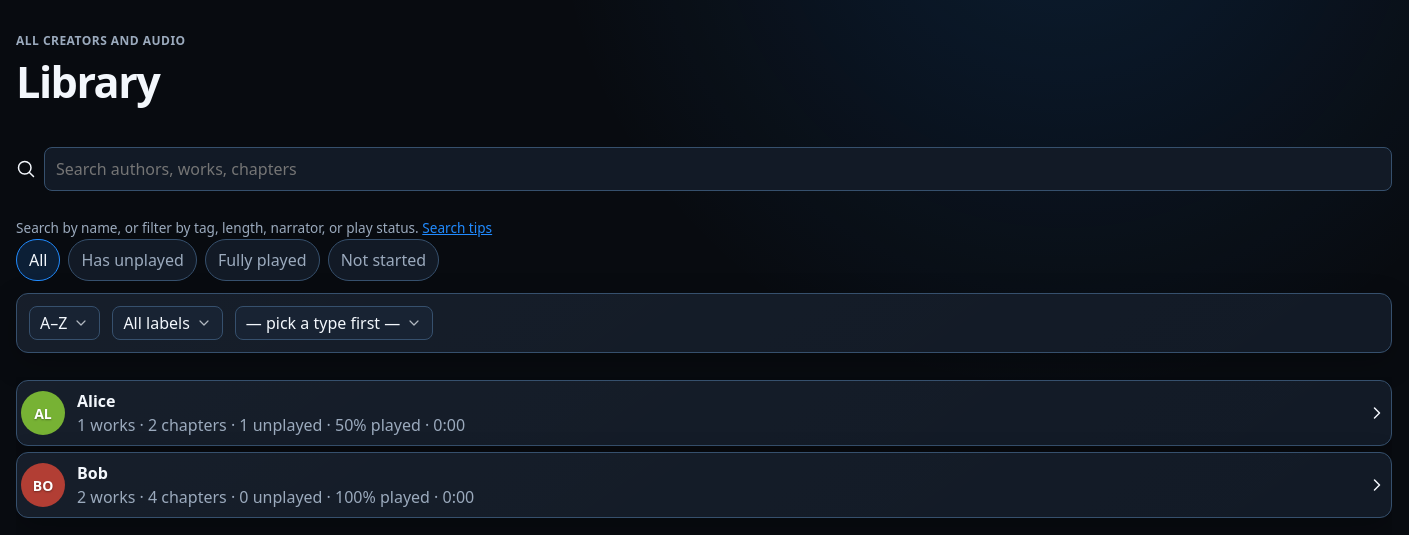
Test case: LibraryView — unified label filter (M26) › type select lists all label type display names
The image size is (1409, 535).
Click the button with aria-label "Filter by label type" at (168, 323), box [112,306,223,340]
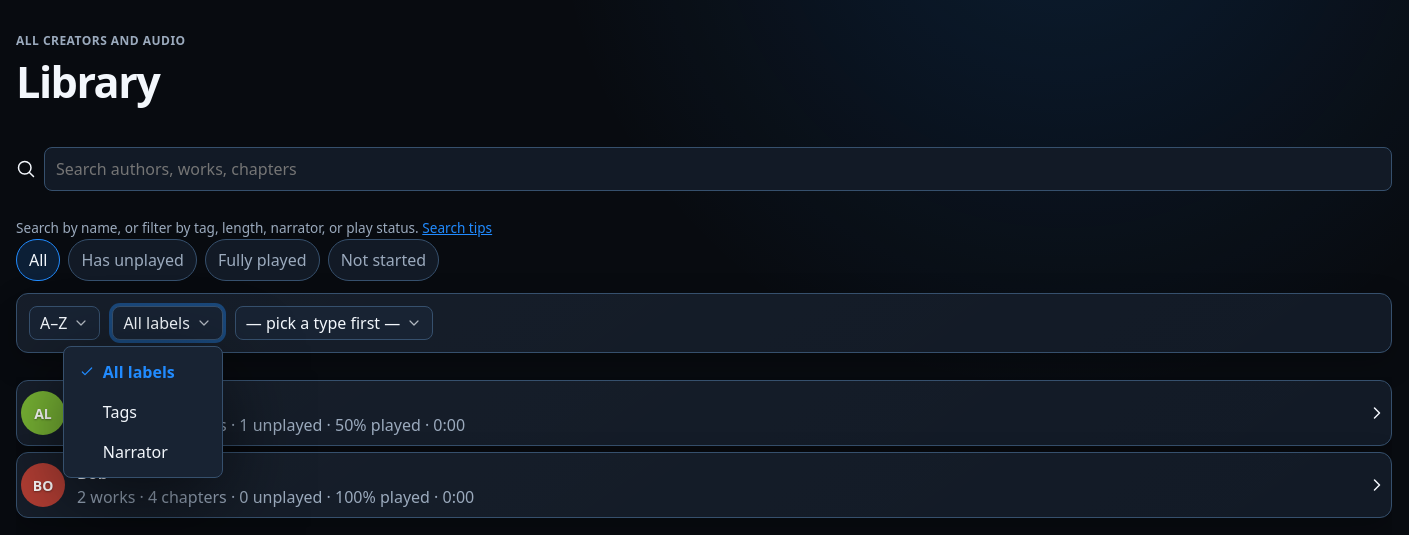
Check: the option "Tags" is shown, box [69,392,217,432]
Check: the option "Narrator" is shown, box [69,432,217,472]
